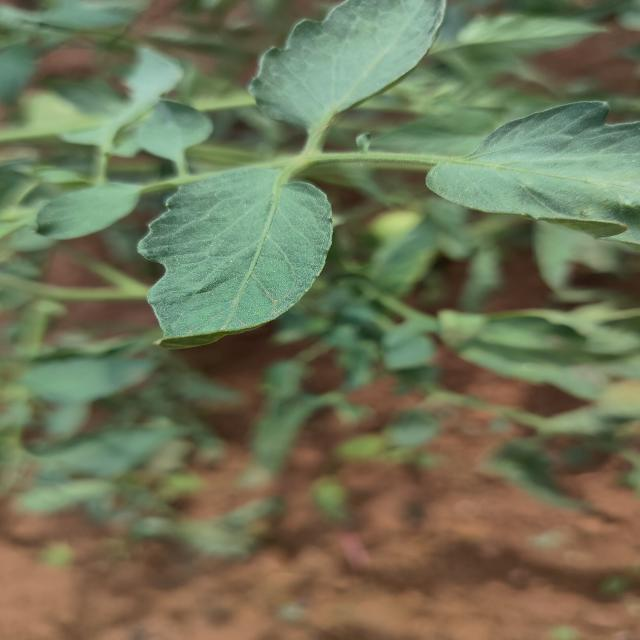tomato_healthy: (134, 165, 344, 352)
